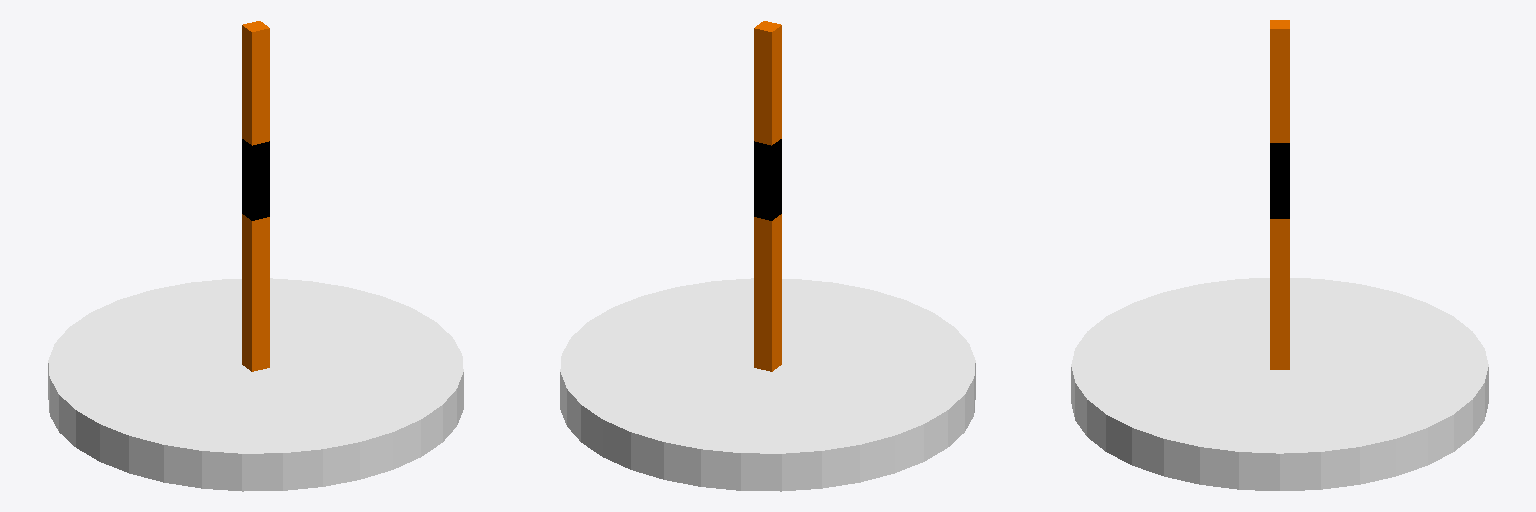
The robot description file, URDF, robot "rrr_manipulator":
<?xml version="1.0"?>
<robot name="rrr_manipulator">
  <!-- 첫 번째 링크 -->
  <link name="base_link">
    <visual>
      <geometry>
        <cylinder radius="1" length="0.2"/>
      </geometry>
      <material name="white">
        <color rgba="1.0 1.0 1.0 1.0"/>
      </material>
    </visual>
  </link>

  <!-- 첫 번째 조인트 -->
  <joint name="joint1" type="revolute">
    <parent link="base_link"/>
    <child link="link1"/>
    <origin xyz="0 0 0.1" rpy="0 0 0"/>
    <axis xyz="0 0 1"/>
    <limit lower="-3.14" upper="3.14" effort="10" velocity="1.0"/>
  </joint>

  <!-- 두 번째 링크 -->
  <link name="link1">
    <visual>
      <origin xyz="0 0 0.4" rpy="0 0 0"/>
      <geometry>
        <box size="0.1 0.1 0.8"/>
      </geometry>
      <material name="orange">
        <color rgba="1.0 0.5 0.0 1.0"/>
      </material>
    </visual>
  </link>

  <!-- 두 번째 조인트 -->
  <joint name="joint2" type="revolute">
    <parent link="link1"/>
    <child link="link2"/>
    <origin xyz="0 0 0.8" rpy="0 0 0"/>
    <axis xyz="1 0 0"/>
    <limit lower="-3.14" upper="3.14" effort="10" velocity="1.0"/>
  </joint>

  <!-- 세 번째 링크 -->
  <link name="link2">
    <visual>
      <origin xyz="0 0 0.2" rpy="0 0 0"/>
      <geometry>
        <box size="0.1 0.1 0.4"/>
      </geometry>
      <material name="black">
        <color rgba="0.0 0.0 0.0 1.0"/>
      </material>
    </visual>
  </link>

  <!-- 세 번째 조인트 -->
  <joint name="joint3" type="revolute">
    <parent link="link2"/>
    <child link="link3"/>
    <origin xyz="0 0 0.4" rpy="0 0 0"/>
    <axis xyz="1 0 0"/>
    <limit lower="-3.14" upper="3.14" effort="10" velocity="1.0"/>
  </joint>

  <!-- 네 번째 링크 -->
  <link name="link3">
    <visual>
      <origin xyz="0 0 0.3" rpy="0 0 0"/>
      <geometry>
        <box size="0.1 0.1 0.6"/>
      </geometry>
      <material name="orange">
        <color rgba="1.0 0.5 0.0 1.0"/>
      </material>
    </visual>
  </link>

</robot>

--- What the picture shows (computed from the rendered views, not written in the file) ---
The picture shows the robot from 3 angles, left to right: view 1: azimuth 30°, elevation 25°; view 2: azimuth 150°, elevation 25°; view 3: azimuth 270°, elevation 25°; orthographic projection.
Robot: rrr_manipulator — 4 links, 3 joints (3 revolute); root link base_link; default pose: all joints at 0.
Links seen in each view (by area): view 1: base_link, link1, link3, link2; view 2: base_link, link1, link3, link2; view 3: base_link, link1, link3, link2.
Link boxes in pixels (box(x1,y1,x2,y2)): base_link: box(48, 278, 463, 491); link1: box(242, 214, 269, 371); link3: box(242, 21, 269, 145); link2: box(242, 139, 269, 220); base_link: box(560, 278, 975, 491); link1: box(754, 214, 781, 371); link3: box(754, 21, 781, 145); link2: box(754, 139, 781, 220); base_link: box(1071, 278, 1488, 490); link1: box(1270, 219, 1289, 369); link3: box(1270, 20, 1289, 142); link2: box(1270, 143, 1289, 218).
Size in the robot's own frame: 2 by 2 by 2 metres.
Geometry: primitives only (box / cylinder / sphere), no mesh files.